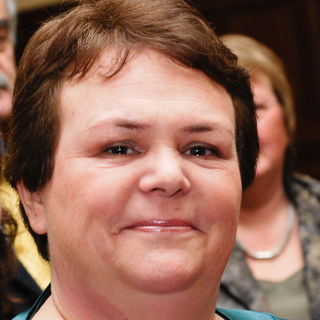eye: (93, 138, 142, 163), (179, 139, 224, 164)
